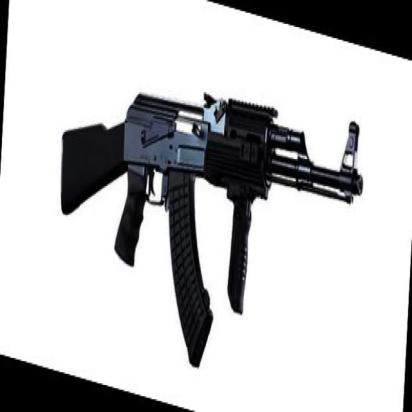Gun: (62, 90, 365, 358)
